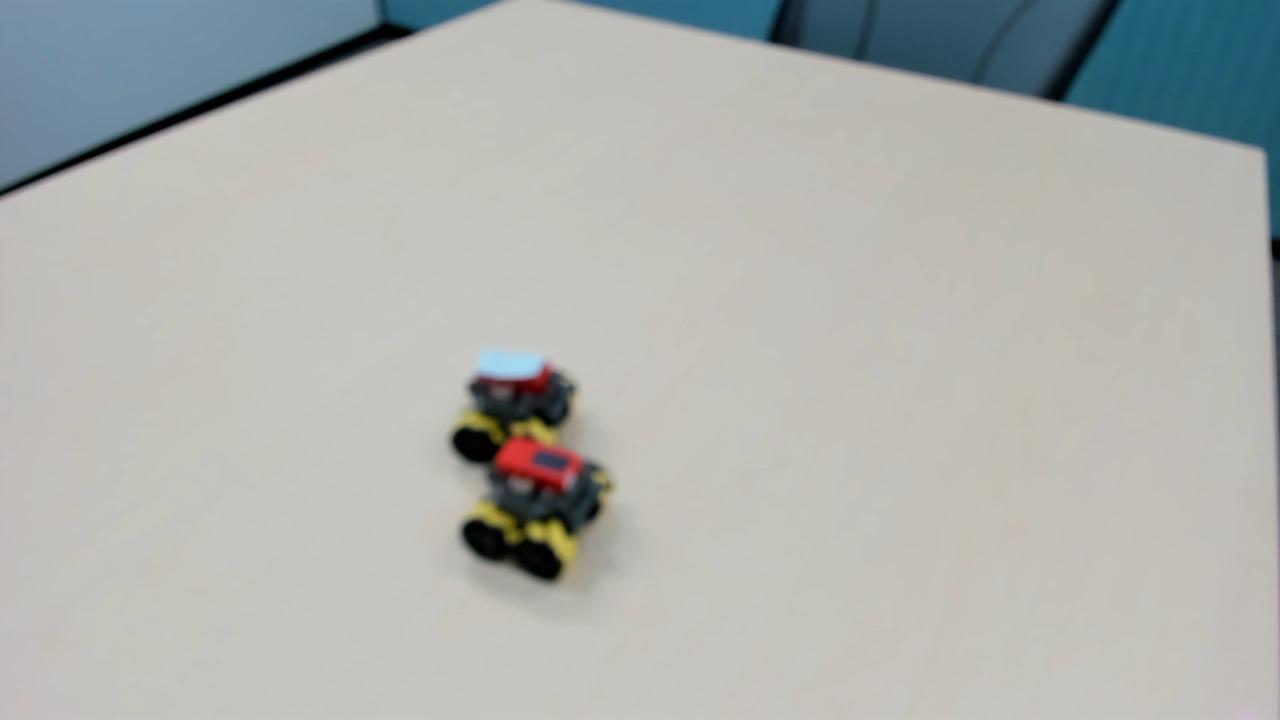B-Robot: (434, 334, 573, 449)
R-Robot: (460, 430, 611, 589)
